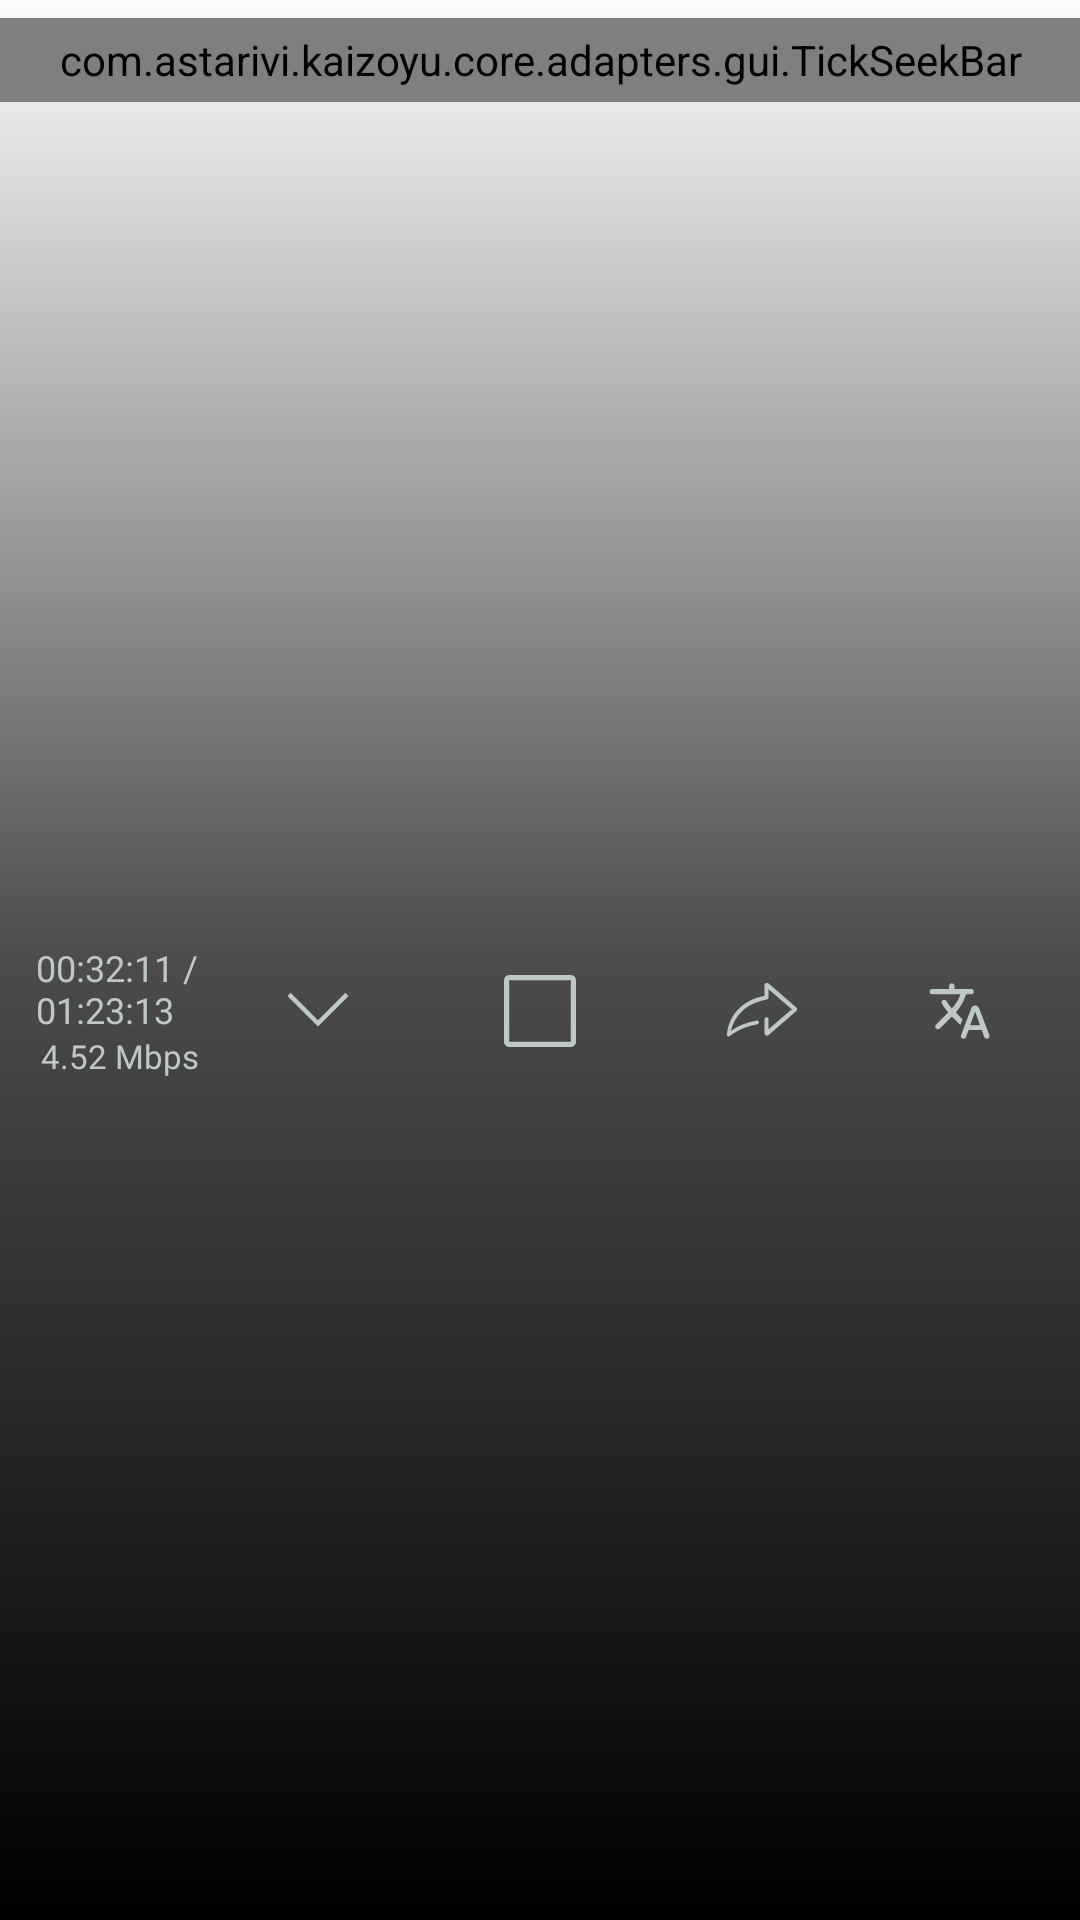

Screen size 1080 × 1920. Icon name, then its center in pixels as (x,y):
Change language of video: (959,1011)
player hide: (318,1009)
skip intro: (762,1010)
